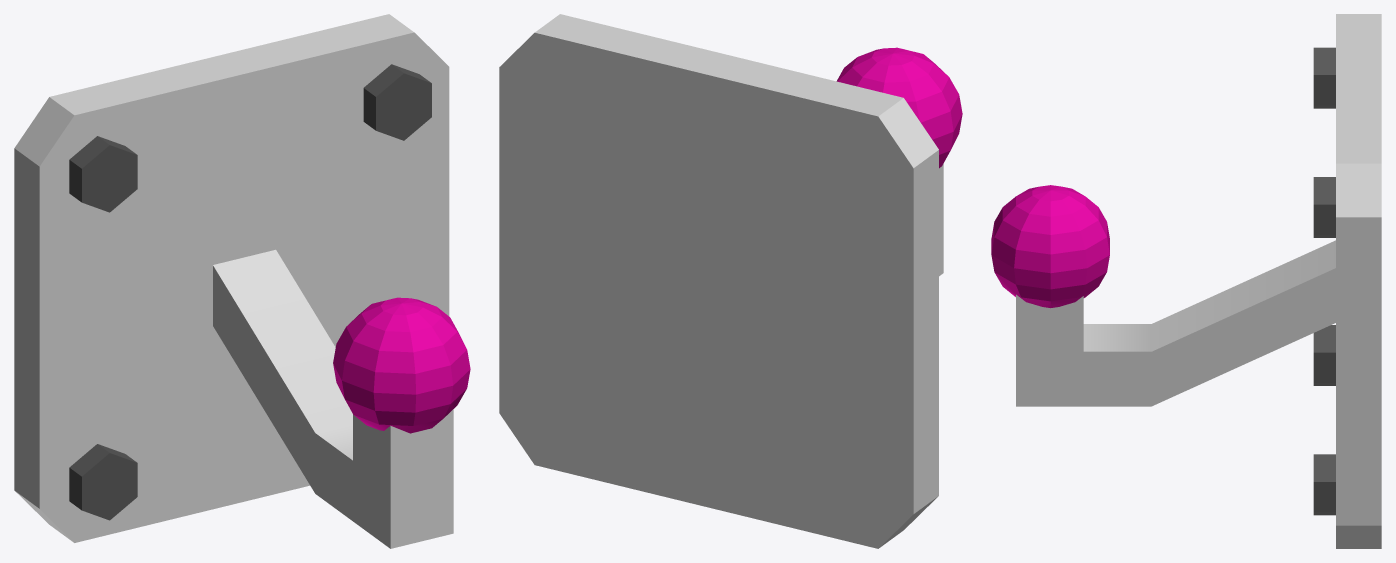
The model's file is wallmountStand.fbx.
3 renders of one model, left to right at view 1: azimuth 30°, elevation 25°; view 2: azimuth 150°, elevation 25°; view 3: azimuth 270°, elevation 25°, orthographic. The views are drawn at different scales.
Parts seen in each view (by area): view 1: wallmountStand; view 2: wallmountStand; view 3: wallmountStand.
Part boxes in pixels (x1,y1,x2,y2): wallmountStand: [14, 14, 470, 548]; wallmountStand: [499, 14, 962, 548]; wallmountStand: [991, 14, 1381, 548].
Bounding box in the file's own units: 1.19 × 1.18 × 1.09.
